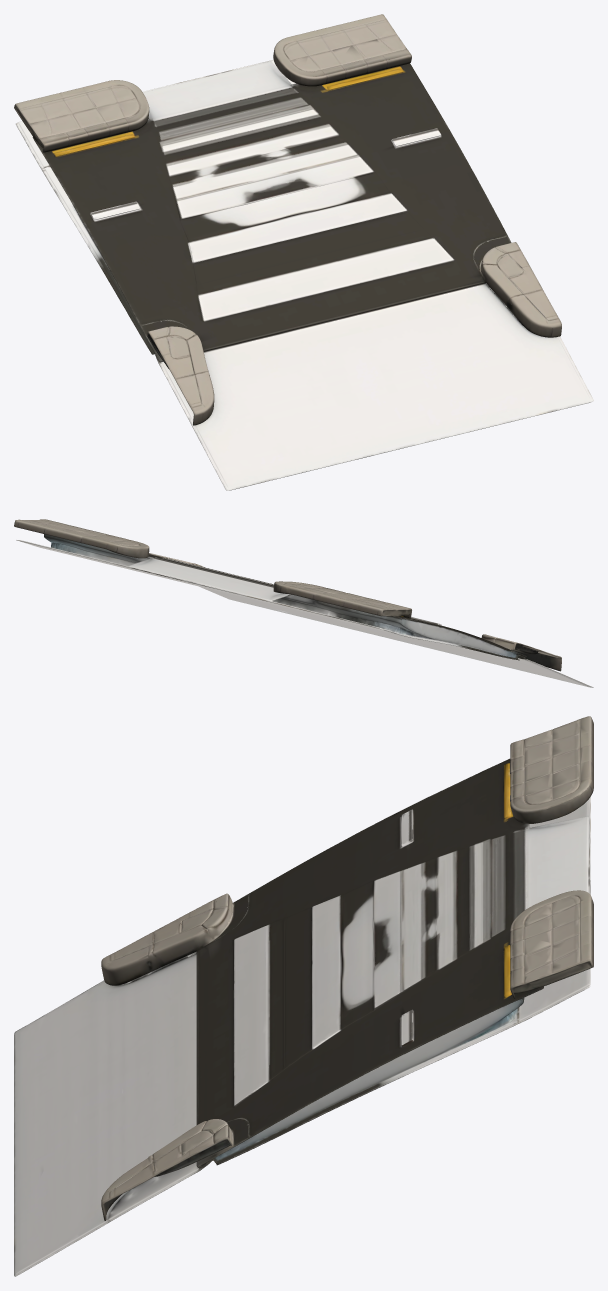
The model's file is street.glb.
3 views of the same model, one above another, from view 1: azimuth 30°, elevation 25°; view 2: azimuth 150°, elevation 25°; view 3: azimuth 270°, elevation 25° (orthographic). The views are drawn at different scales.
Parts seen in each view (by area): view 1: node_0; view 2: node_0; view 3: node_0.
Boxes of the visible parts, <box> form: node_0: <box>14,14,593,490</box>; node_0: <box>14,519,593,687</box>; node_0: <box>14,716,593,1276</box>.
Bounding box in the file's own units: 0.7823 × 0.4733 × 0.7831.
1 material, 1 textured.
